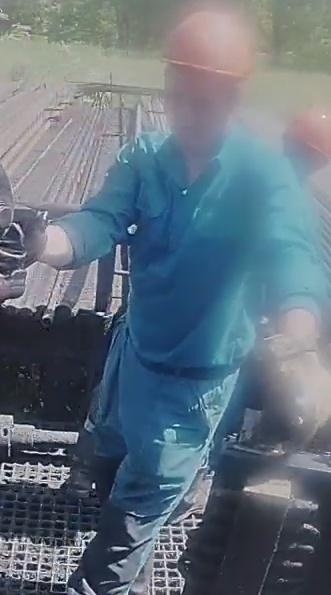gloves: (249, 319, 328, 455), (0, 210, 55, 270)
helmet: (159, 11, 255, 81), (282, 106, 331, 162)
vest: (110, 133, 331, 372)
